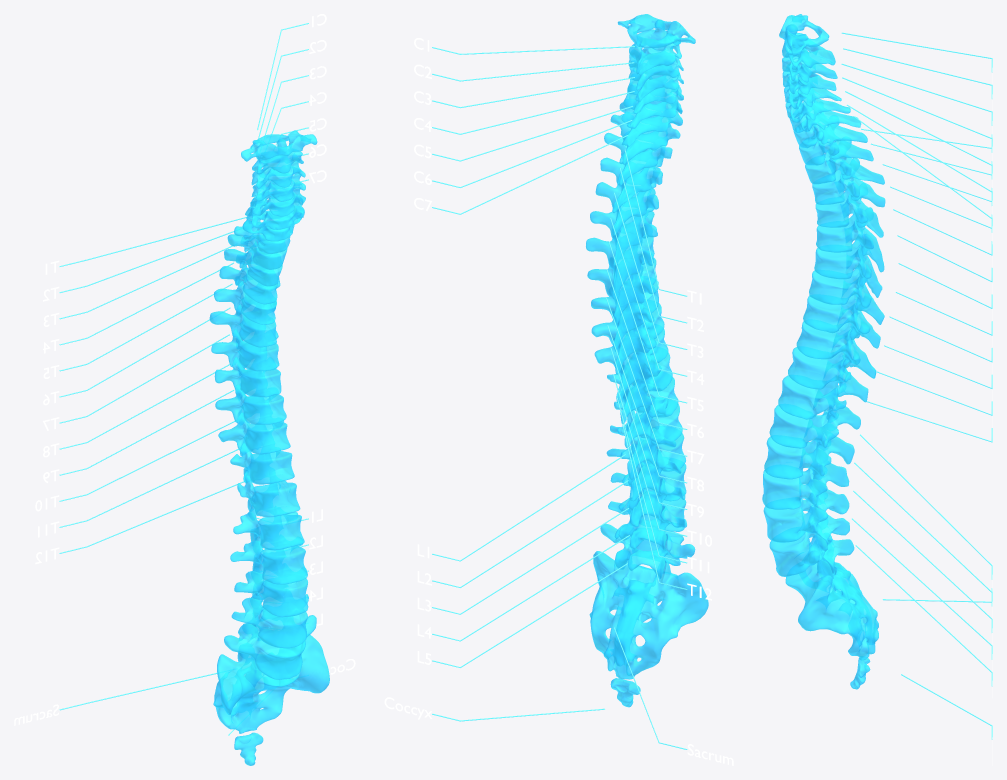
Rendered from spine.glb.
3 renders of one model, left to right at view 1: azimuth 30°, elevation 25°; view 2: azimuth 150°, elevation 25°; view 3: azimuth 270°, elevation 25°, orthographic. The views are drawn at different scales.
Parts seen in each view (by area): view 1: Xray | Sacrum, Xray | L5, Xray | L4, Xray | L2, Xray | L3, Xray | L1, Xray | T12, Xray | T10, Xray | T11, Xray | T9, Xray | T8, Xray | T7 (+14 smaller); view 2: Xray | Sacrum, Xray | L5, Xray | L4, Xray | L2, Xray | L3, Xray | L1, Xray | T10, Xray | T9, Xray | T6, Xray | T7, Xray | T12, Xray | T5 (+13 smaller); view 3: Xray | Sacrum, Xray | L1, Xray | L2, Xray | L3, Xray | T12, Xray | L4, Xray | L5, Xray | T11, Xray | T10, Xray | T9, Xray | T8, Xray | T7 (+13 smaller).
Part boxes in pixels (box(x1,y1,x2,y2)): Xray | Sacrum: box(213, 634, 329, 733); Xray | L5: box(224, 615, 316, 679); Xray | L4: box(231, 594, 308, 648); Xray | L2: box(230, 540, 307, 584); Xray | L3: box(234, 568, 308, 617); Xray | L1: box(233, 512, 304, 555); Xray | T12: box(237, 475, 300, 517); Xray | T10: box(218, 412, 290, 455); Xray | T11: box(230, 443, 294, 484); Xray | T9: box(215, 384, 286, 424); Xray | T8: box(214, 357, 281, 397); Xray | T7: box(211, 329, 279, 371); Xray | Sacrum: box(589, 551, 708, 679); Xray | L5: box(600, 523, 695, 578); Xray | L4: box(608, 498, 686, 549); Xray | L2: box(606, 433, 685, 501); Xray | L3: box(610, 463, 686, 526); Xray | L1: box(610, 403, 682, 479); Xray | T10: box(594, 328, 668, 403); Xray | T9: box(591, 303, 664, 374); Xray | T6: box(586, 237, 654, 299); Xray | T7: box(587, 258, 656, 324); Xray | T12: box(614, 377, 678, 448); Xray | T5: box(590, 210, 657, 265); Xray | Sacrum: box(785, 535, 878, 660); Xray | L1: box(769, 405, 854, 464); Xray | L2: box(764, 436, 849, 486); Xray | L3: box(762, 468, 849, 514); Xray | T12: box(778, 375, 860, 429); Xray | L4: box(763, 499, 849, 545); Xray | L5: box(769, 531, 854, 576); Xray | T11: box(788, 347, 868, 402); Xray | T10: box(796, 321, 876, 378); Xray | T9: box(803, 295, 880, 348); Xray | T8: box(809, 268, 884, 324); Xray | T7: box(814, 240, 882, 297).
Size of what is drawn, in the model's own units: 0.3972 by 0.7443 by 0.2267.
